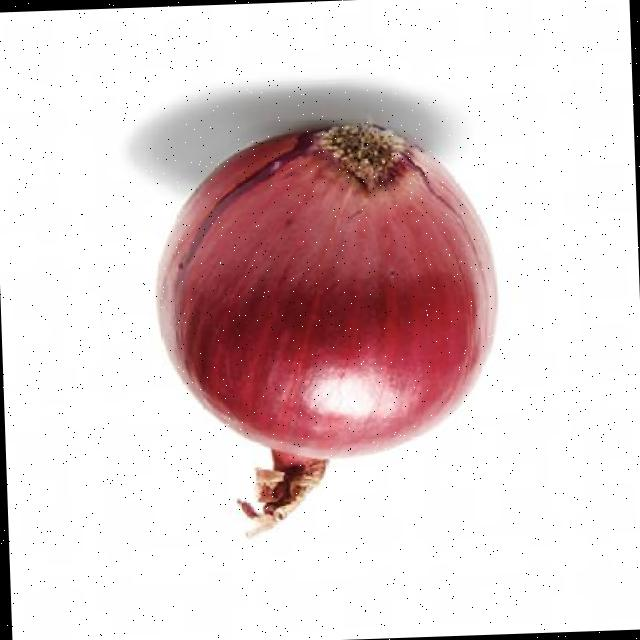Onion: (158, 121, 497, 519)
